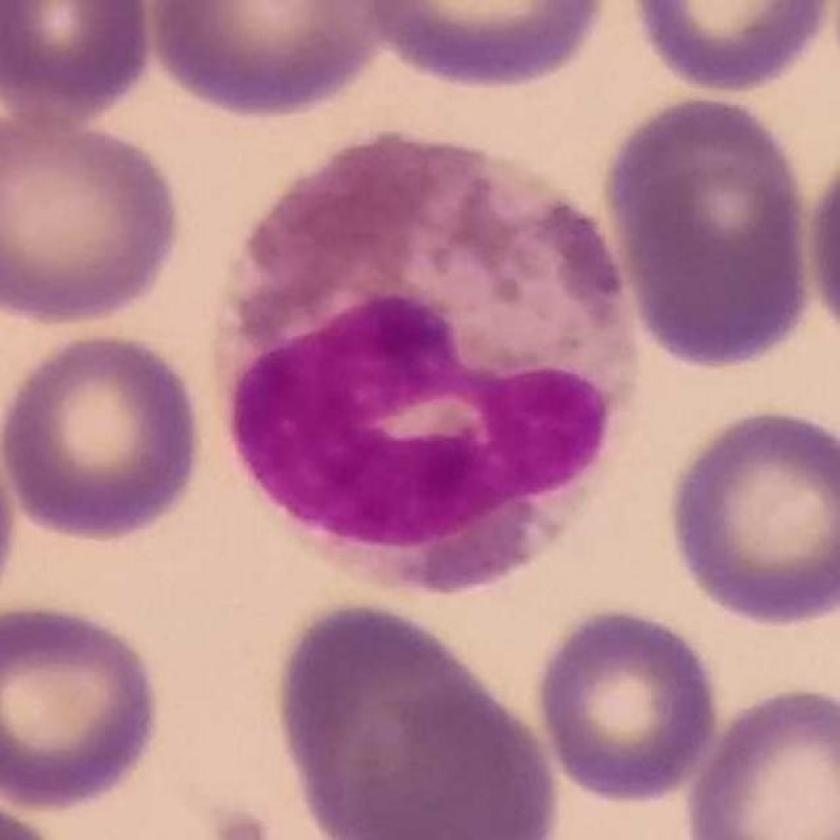eosinophil: (218, 122, 650, 592)
